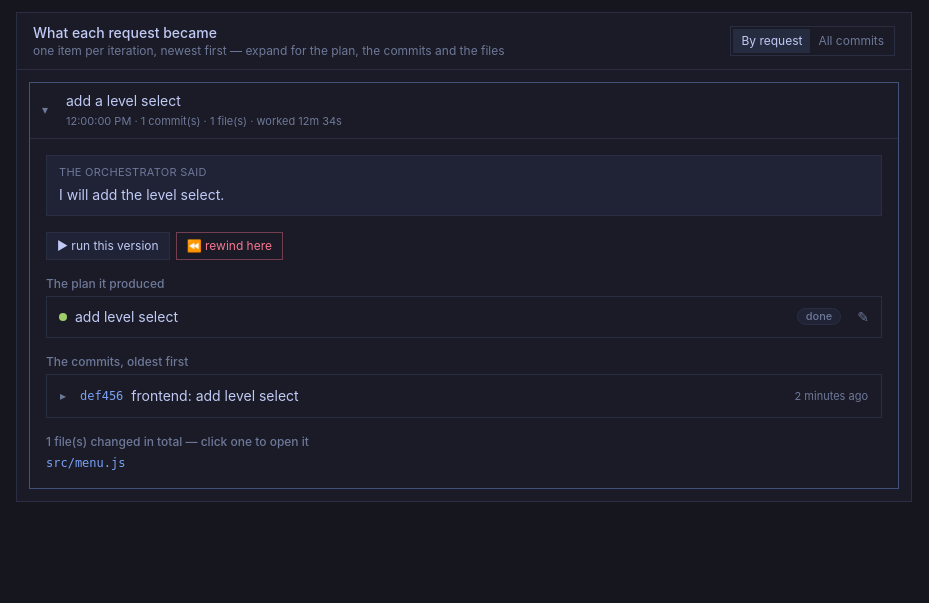
Test: from a reply to its commits › opens a commit onto its diff, and asks for it only then
Click the text "frontend: add level select".
click(215, 395)  # box [131, 387, 299, 404]
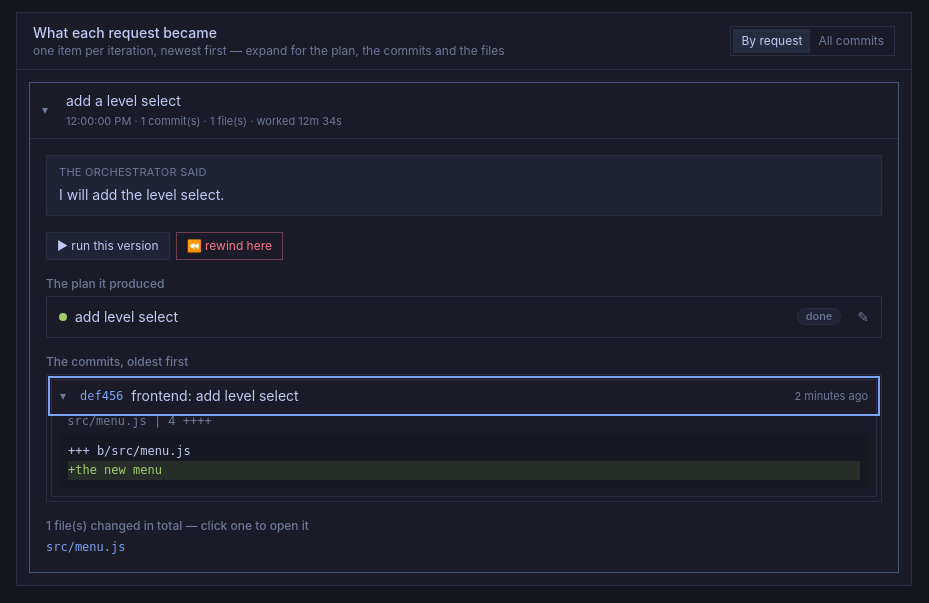
expect the text "+the new menu" is shown: met, box [68, 461, 860, 480]
